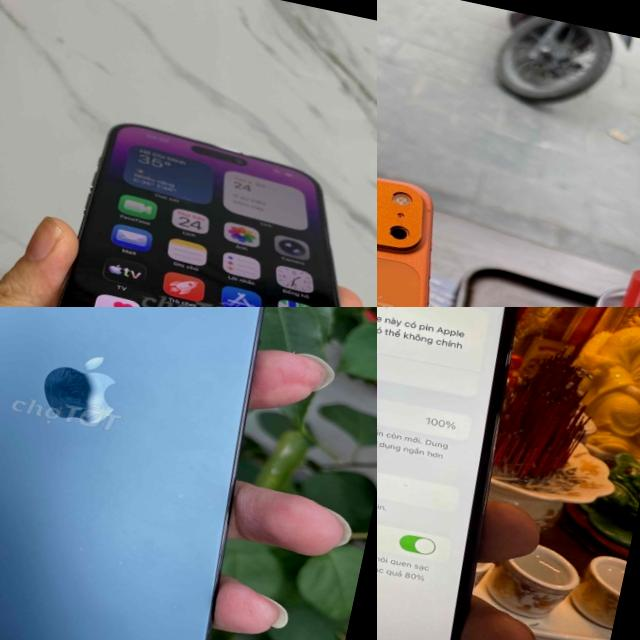gen_12_13: (0, 307, 322, 640), (377, 307, 554, 640)
gen_14: (23, 104, 377, 307)
gen_17: (377, 118, 499, 307)
